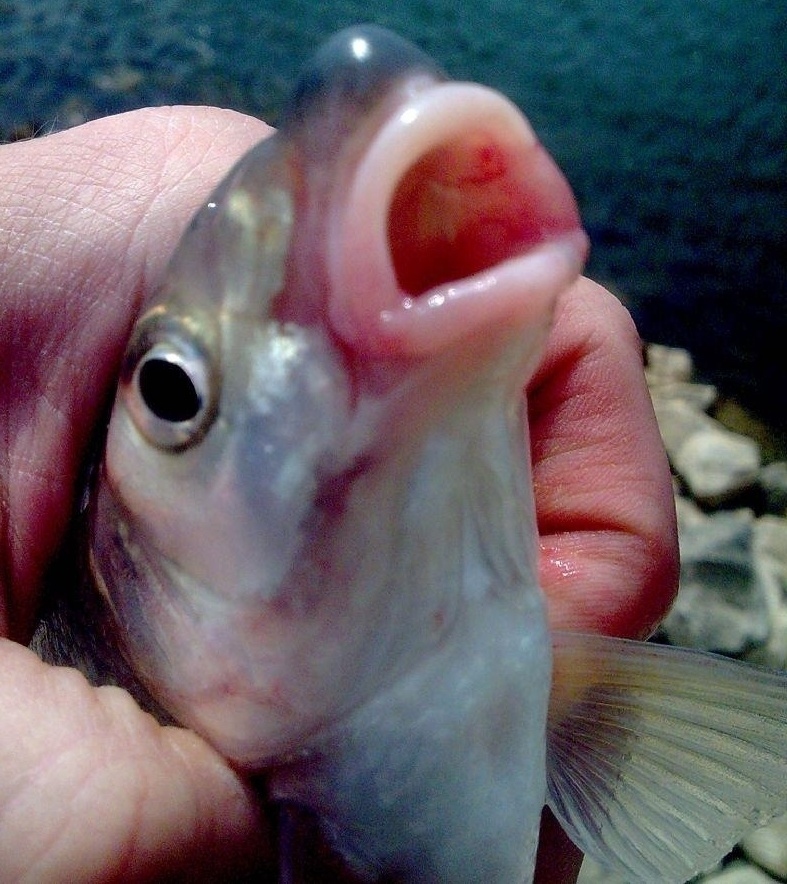Vimba vimba: (20, 20, 787, 884)
